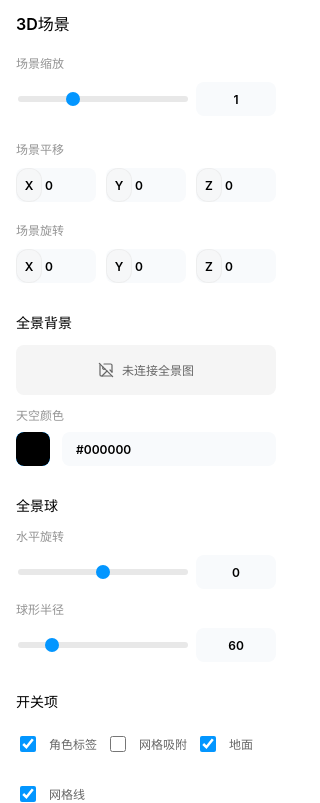
Test case: updates scene scale from both slider and numeric input
Expected: the slider named "场景缩放滑杆" holds "1", [18, 92, 188, 106]
Replace the text in the number field named "场景缩放" with "1.35" at point(236, 99), box [196, 82, 276, 116]
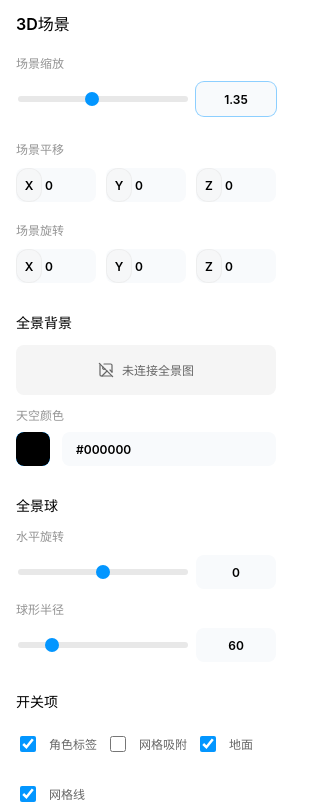
Result: the slider named "场景缩放滑杆" holds "1.35"
Set the slider named "场景缩放滑杆" to "1.8" at point(116, 99), box [18, 92, 188, 106]
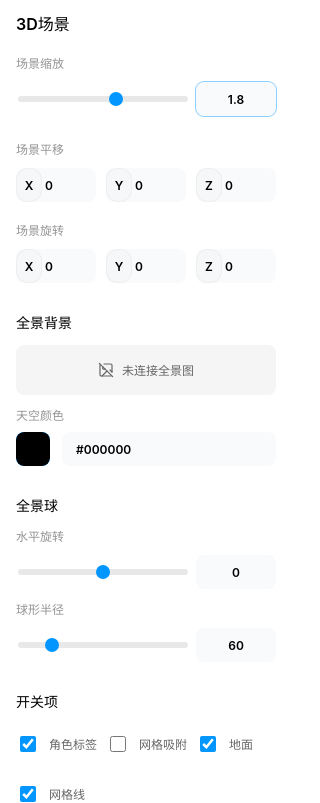
Result: the number field named "场景缩放" holds "1.8" at [196, 82, 276, 116]
